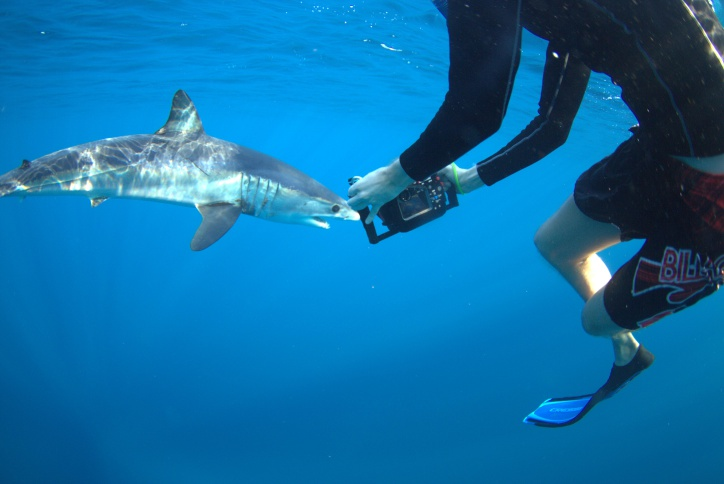Mako: (1, 81, 367, 256)
